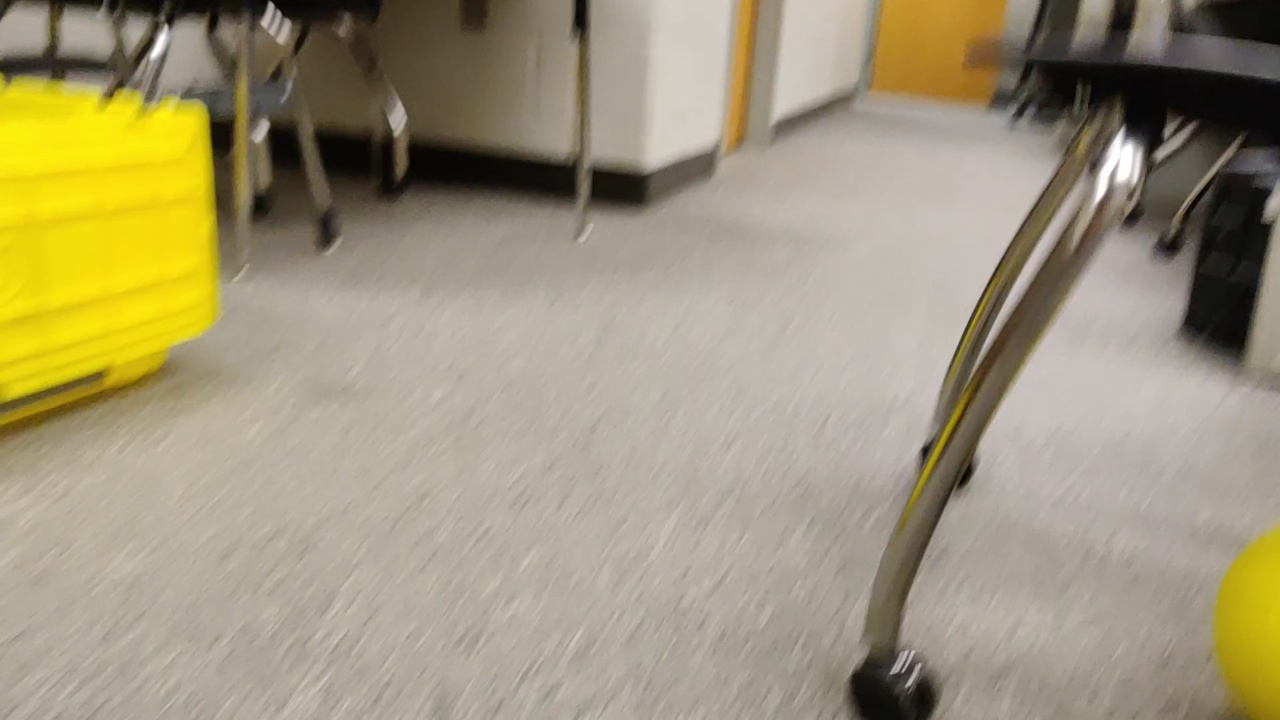Ball: (1214, 516, 1279, 720)
